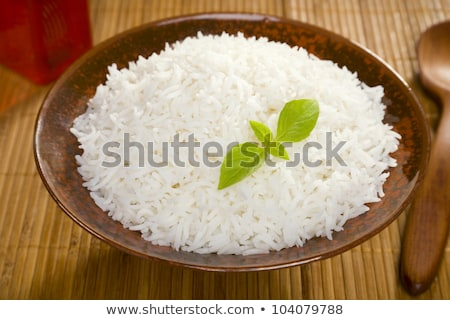plain rice: (95, 43, 372, 236)
